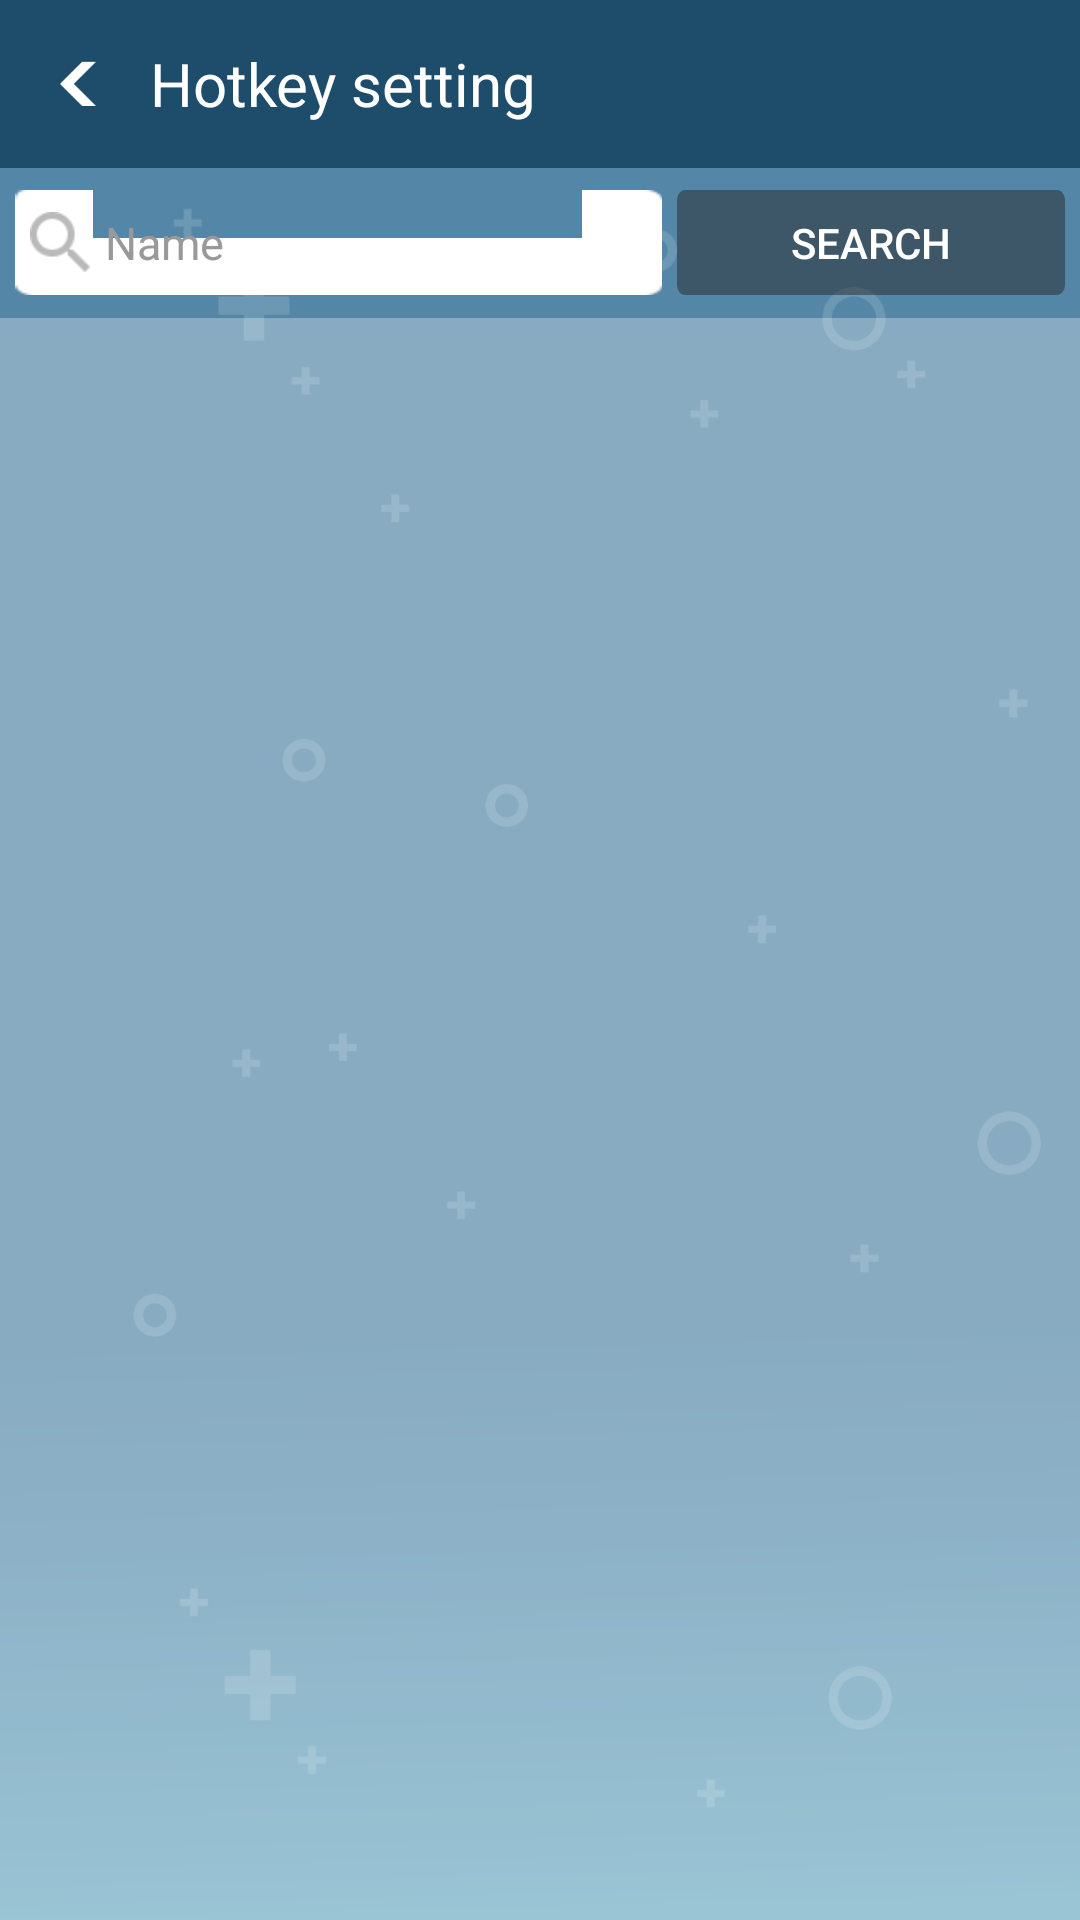

Icons on this 1080×1920 Android screen, each with the point to tap as point (x, y):
back: point (78, 83)
